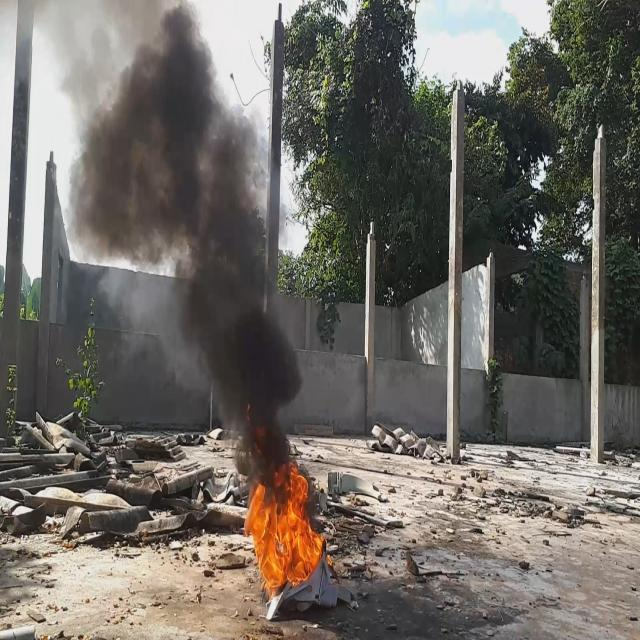Fire: (243, 457, 324, 596)
Smoke: (4, 0, 305, 499)
